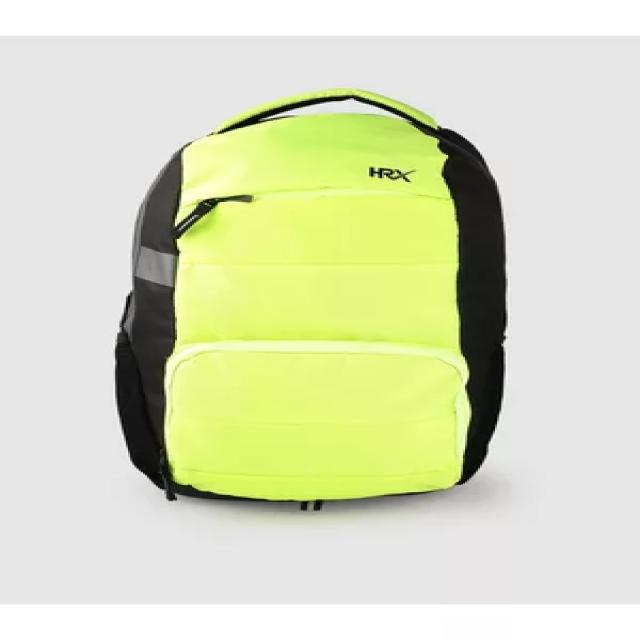backpack: (113, 87, 508, 510)
